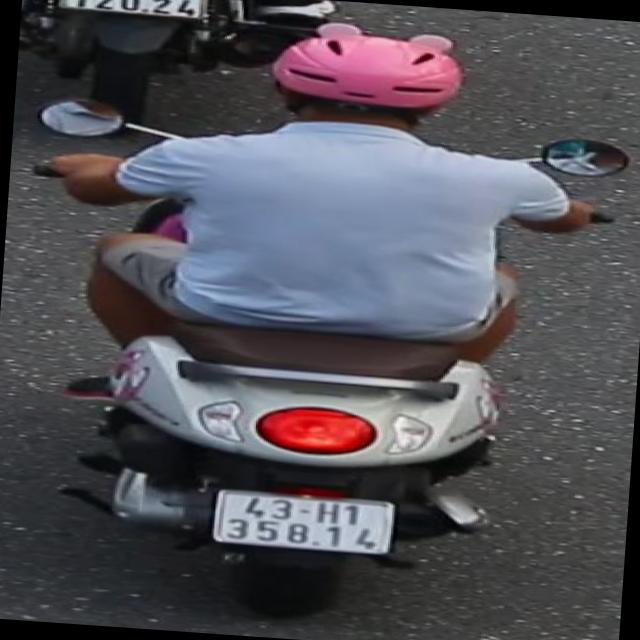LP: (202, 477, 414, 568)
helmet: (261, 14, 470, 126)
